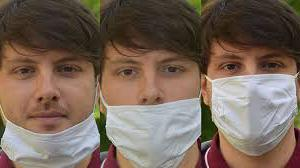mask_weared_incorrect: (103, 53, 196, 163), (5, 53, 89, 164)
with_mask: (209, 47, 291, 143)
